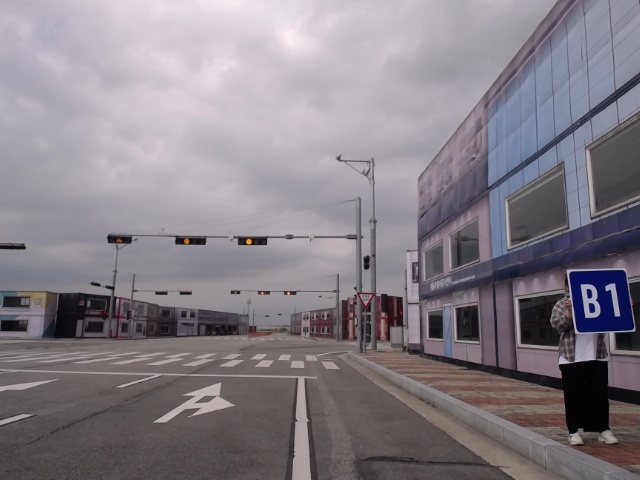delivery_b1: (568, 268, 636, 334)
orange_4: (238, 236, 268, 245), (175, 237, 206, 245), (258, 291, 271, 295), (284, 291, 297, 295)
